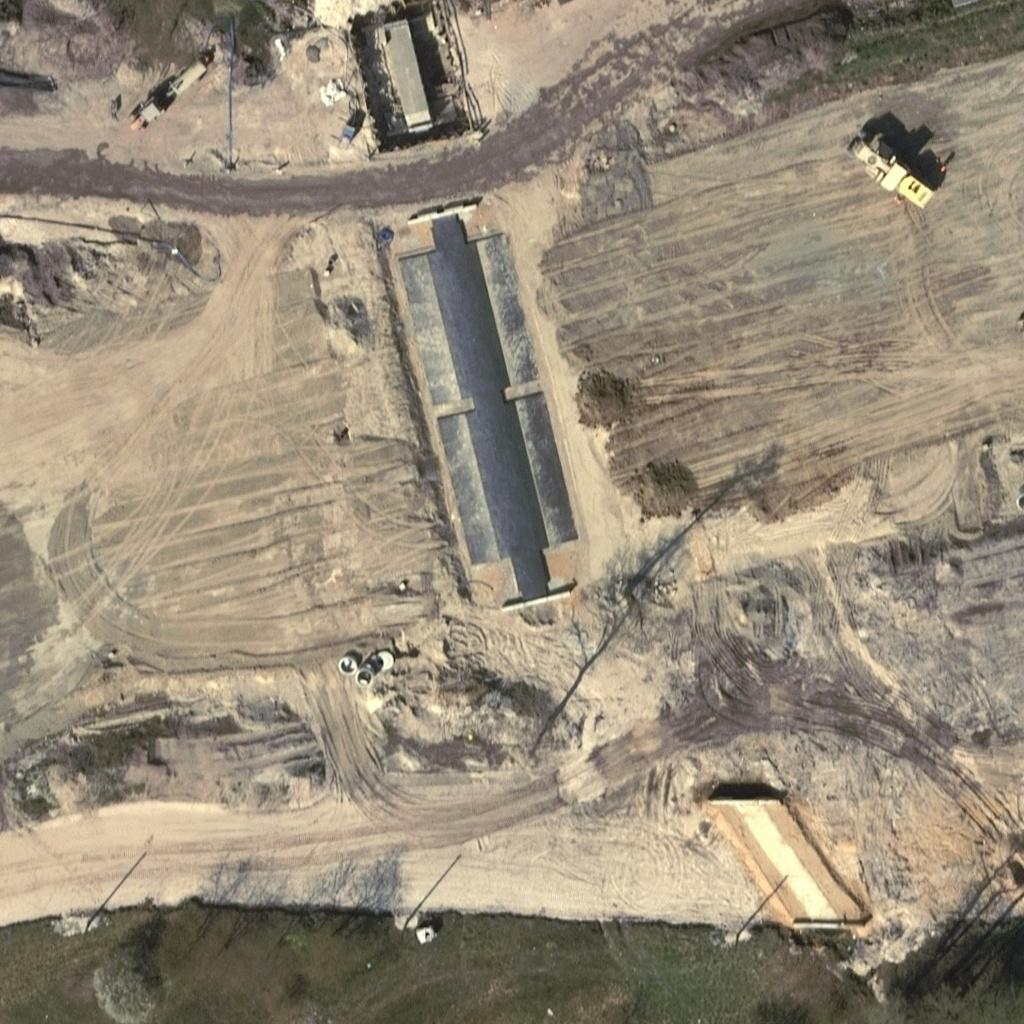walec: (831, 120, 946, 228)
